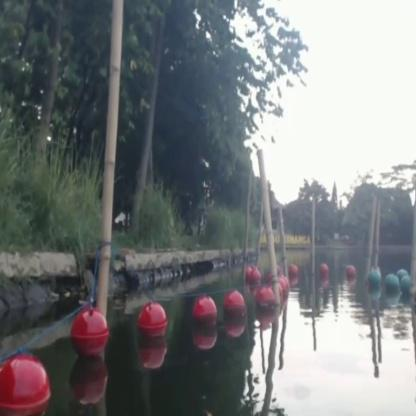green_buoy: (382, 268, 399, 298), (402, 275, 415, 301), (366, 268, 378, 292)
red_buoy: (0, 354, 50, 414), (72, 311, 108, 360), (136, 302, 168, 340), (192, 296, 216, 332), (223, 292, 245, 326), (257, 285, 274, 318), (287, 261, 303, 287), (244, 268, 260, 286), (344, 265, 357, 283), (278, 272, 287, 298), (319, 262, 329, 279)
